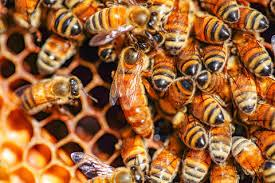Queen-Bee: (118, 35, 161, 141)
worker-bee: (12, 64, 87, 116), (86, 5, 159, 37), (233, 35, 275, 78), (36, 40, 82, 71), (174, 115, 208, 151), (196, 9, 229, 46), (231, 69, 256, 112), (154, 143, 180, 183), (196, 93, 228, 123), (232, 138, 261, 171), (196, 71, 234, 95), (49, 9, 83, 34), (119, 145, 148, 173), (208, 127, 229, 165), (184, 147, 206, 183), (168, 77, 194, 106), (177, 40, 198, 74), (206, 41, 230, 70)
